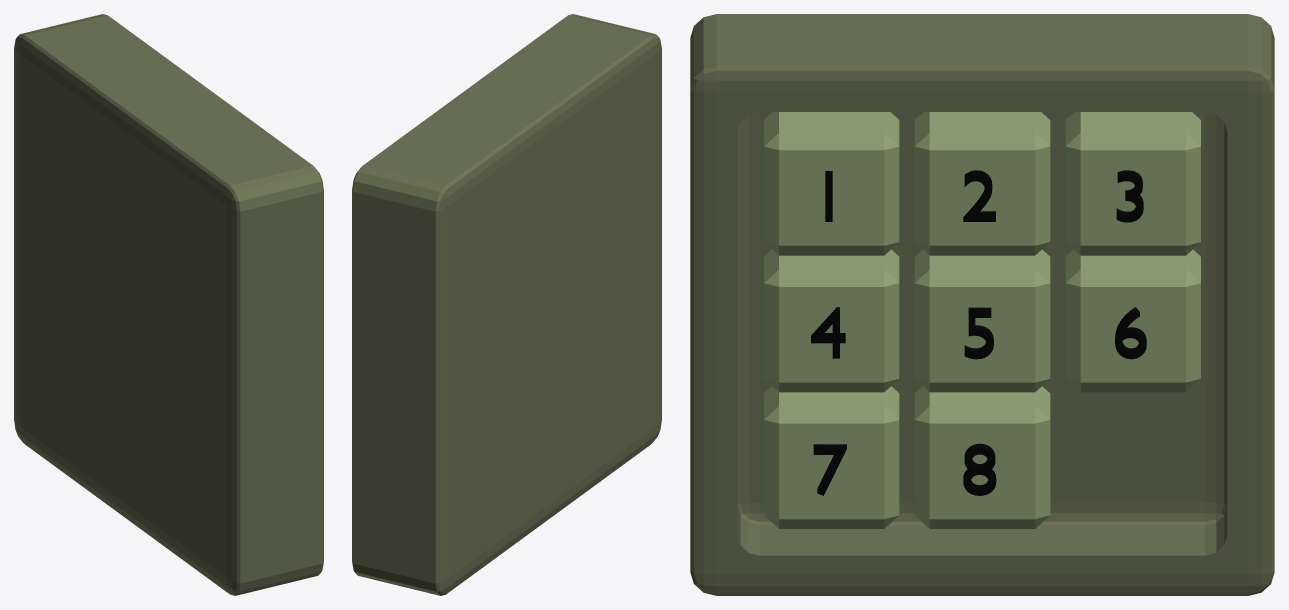
The model's file is 8-Puzzle.fbx.
The picture shows the model from 3 angles, left to right: view 1: azimuth 30°, elevation 25°; view 2: azimuth 150°, elevation 25°; view 3: azimuth 270°, elevation 25°; orthographic projection. The views are drawn at different scales.
Parts seen in each view (by area): view 1: Cube; view 2: Cube; view 3: Cube, Cube.006, Cube.004, Cube.005, Cube.001, Cube.003, Cube.008, Cube.002, Cube.007, Text.007, Text.005, Text.004 (+4 smaller).
Boxes of the visible parts, <box> form: Cube: <box>14,14,323,595</box>; Cube: <box>352,14,661,595</box>; Cube: <box>690,14,1274,595</box>; Cube.006: <box>764,112,899,255</box>; Cube.004: <box>914,112,1050,255</box>; Cube.005: <box>1065,112,1200,255</box>; Cube.001: <box>914,249,1050,392</box>; Cube.003: <box>764,249,899,392</box>; Cube.008: <box>764,386,899,528</box>; Cube.002: <box>1065,249,1200,392</box>; Cube.007: <box>914,386,1050,528</box>; Text.007: <box>963,443,996,495</box>; Text.005: <box>1115,307,1146,359</box>; Text.004: <box>964,307,993,359</box>.
Bounding box in the file's own units: 198 × 775 × 775.
